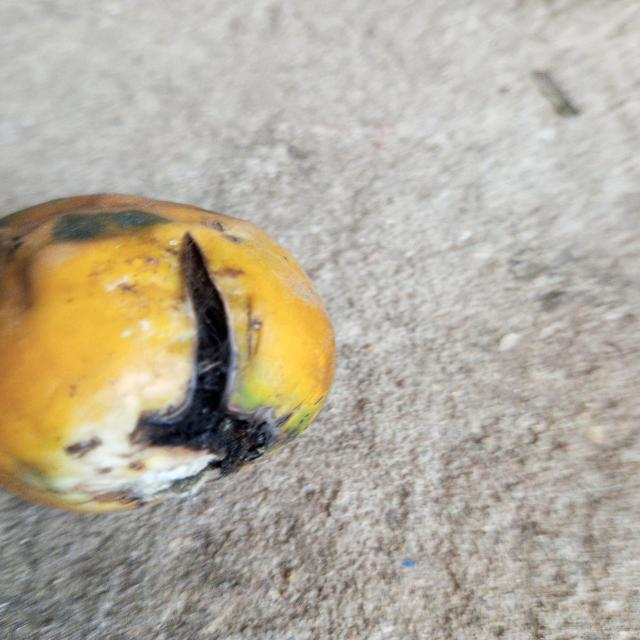damaged: (0, 195, 336, 517)
